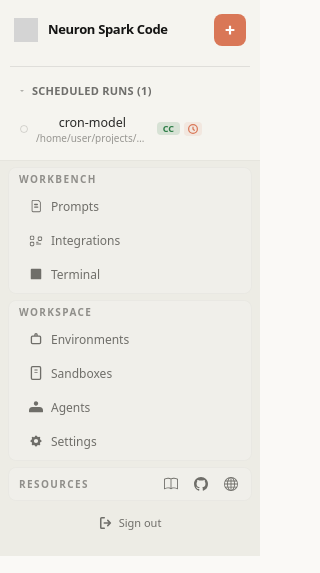
Sidebar › toggling Scheduled Runs section hides/shows cron sessions
The width and height of the screenshot is (320, 573).
Expected: the text "cron-model" is shown, [59, 114, 126, 130]
Note: Click to collapse
Click the button "Scheduled Runs (1)" at coordinates (130, 91), box [10, 79, 250, 104]
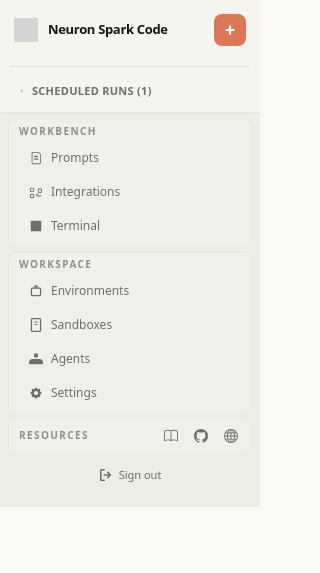
Expected: the button "cron-model" is gone
Note: Click again to expand
Click the button "Scheduled Runs (1)" at coordinates (130, 91), box [10, 79, 250, 104]
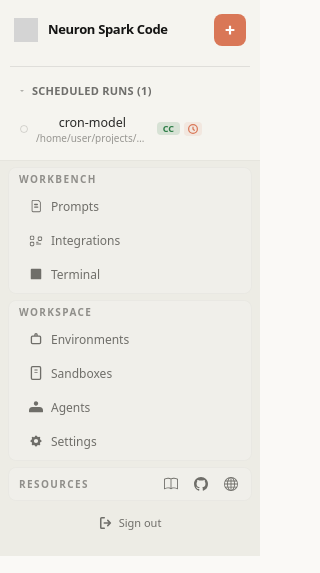
Expected: the text "cron-model" is shown, [59, 114, 126, 130]
